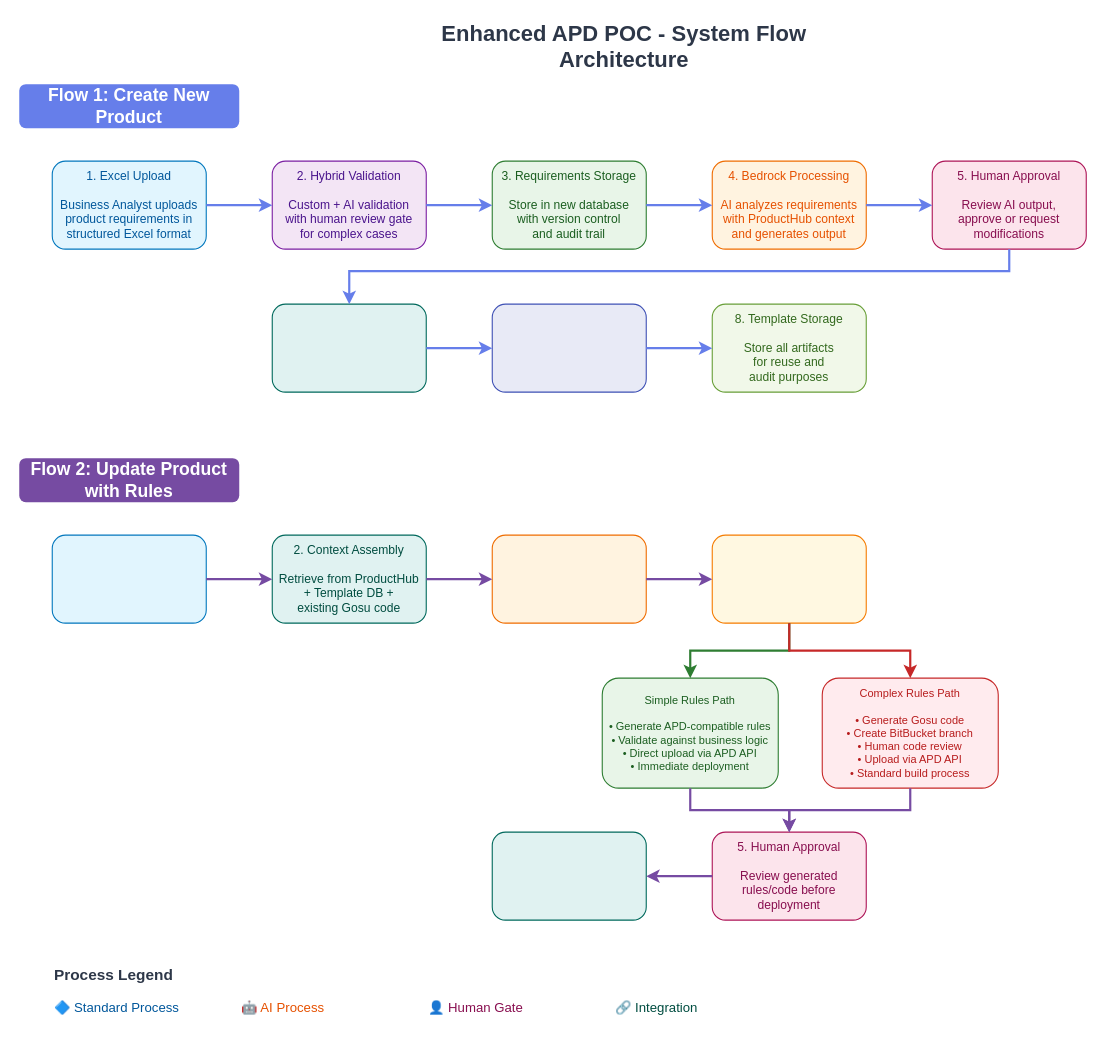
The diagram is 1106 pixels wide and 1037 high, and some of its shapes have lost their labels. Each missing label, with the centre of its shape:
"1. Rule Request Request to add/update product rules via Excel or API" belongs at (128,578).
"3. Bedrock Analysis AI analyzes complexity and determines processing path" belongs at (568,578).
"4. Decision Gate Simple APD Rule vs Complex Gosu Code generation" belongs at (788,578).
"6. APD Upload Upload to Guidewire via existing APD APIs with validation" belongs at (348,347).
"6. Deployment Deploy to target environment with monitoring" belongs at (568,875).
"7. Build & Deploy Leverage existing Guidewire build process" belongs at (568,347).
